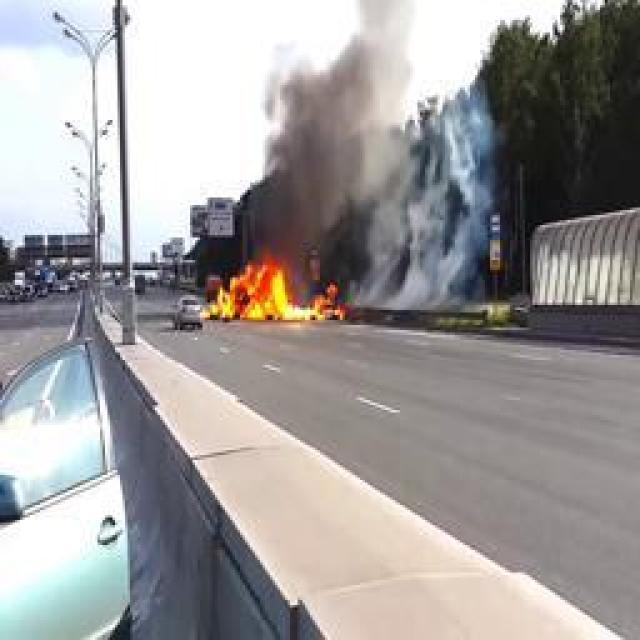Fire: (208, 251, 346, 321)
